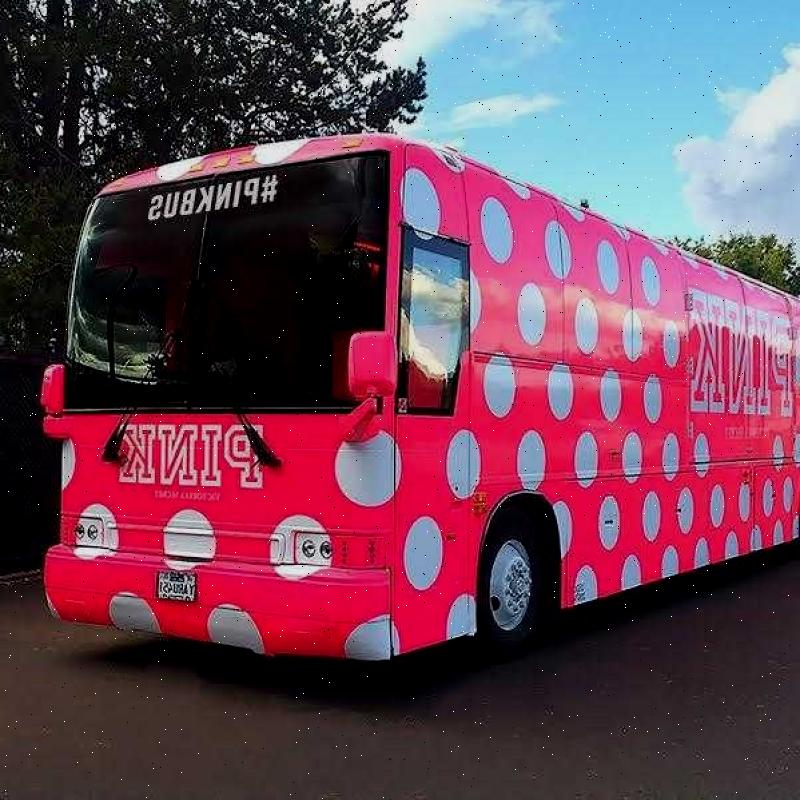bus: (19, 110, 776, 711)
